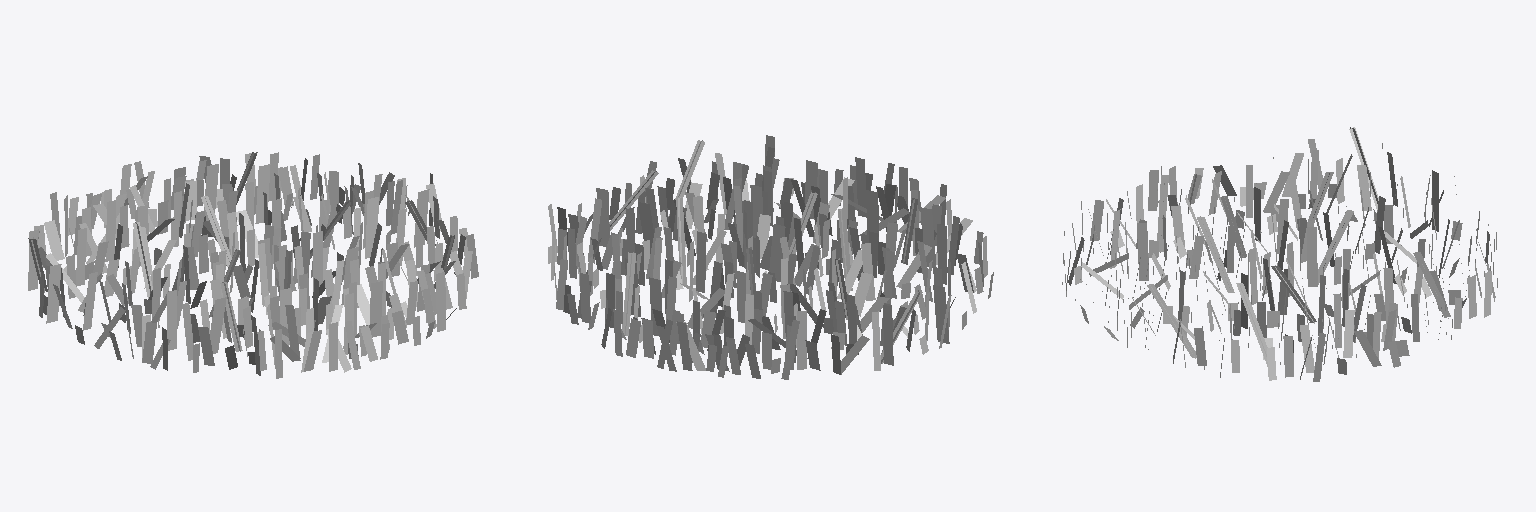
Rendered from grasspatch.obj.
3 renders of one model, left to right at view 1: azimuth 30°, elevation 25°; view 2: azimuth 150°, elevation 25°; view 3: azimuth 270°, elevation 25°, orthographic.
Parts seen in each view (by area): view 1: Trava_Kolosok; view 2: Trava_Kolosok; view 3: Trava_Kolosok.
Boxes of the visible parts, x1=… form: Trava_Kolosok: x1=28, y1=152, x2=478, y2=378; Trava_Kolosok: x1=548, y1=135, x2=993, y2=379; Trava_Kolosok: x1=1062, y1=127, x2=1497, y2=381.
Bounding box in the file's own units: 33.47 × 6.17 × 31.86.